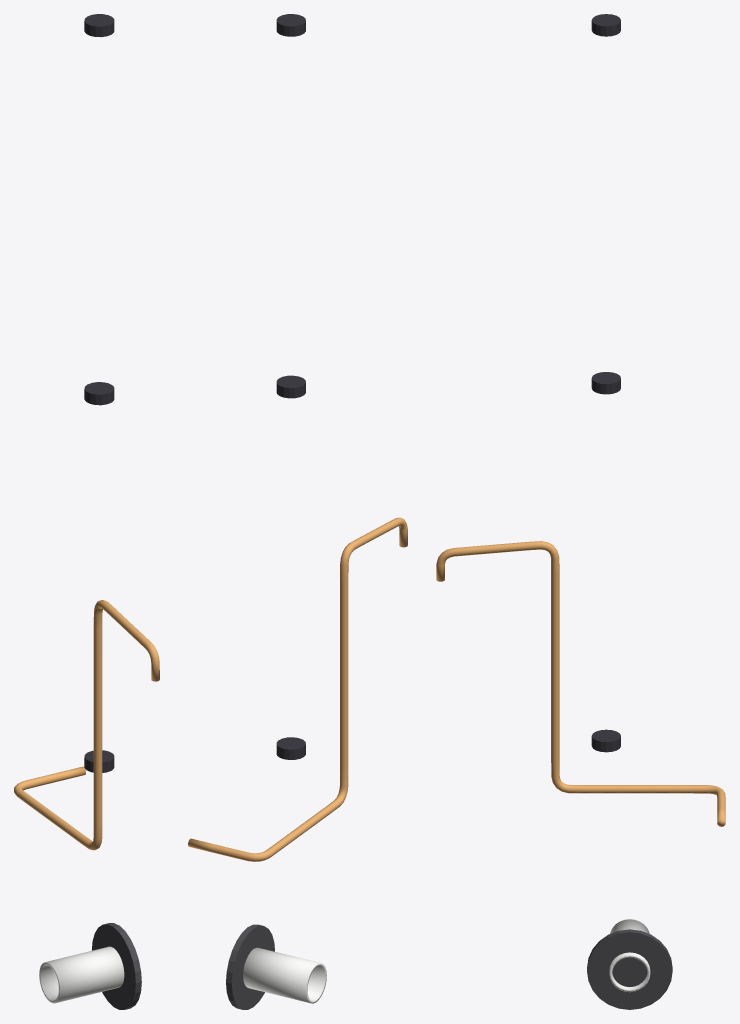
The model's file is slab_pipes_hvac__hvac__9184bdf7.glb.
The picture shows the model from 3 angles, left to right: view 1: azimuth 30°, elevation 25°; view 2: azimuth 150°, elevation 25°; view 3: azimuth 270°, elevation 25°; orthographic projection. The views are drawn at different scales.
Parts seen in each view (by area): view 1: cable_hvac_disconnect_feed, sleeve_hvac_wall, seal_hvac_wall, tape_hvac_tstat_cable.001, tape_hvac_tstat_cable.002, tape_hvac_tstat_cable; view 2: cable_hvac_disconnect_feed, sleeve_hvac_wall, seal_hvac_wall, tape_hvac_tstat_cable.001, tape_hvac_tstat_cable.002, tape_hvac_tstat_cable; view 3: cable_hvac_disconnect_feed, seal_hvac_wall, sleeve_hvac_wall.
Boxes of the visible parts, x1,y1,x2,y2 form: cable_hvac_disconnect_feed: (14, 600, 159, 850); sleeve_hvac_wall: (39, 946, 124, 1003); seal_hvac_wall: (92, 923, 141, 1009); tape_hvac_tstat_cable.001: (84, 382, 114, 405); tape_hvac_tstat_cable.002: (84, 14, 114, 37); tape_hvac_tstat_cable: (84, 750, 114, 772); cable_hvac_disconnect_feed: (188, 517, 407, 861); sleeve_hvac_wall: (243, 947, 326, 1003); seal_hvac_wall: (226, 924, 274, 1009); tape_hvac_tstat_cable.001: (276, 375, 305, 398); tape_hvac_tstat_cable.002: (276, 14, 305, 36); tape_hvac_tstat_cable: (276, 737, 305, 759); cable_hvac_disconnect_feed: (436, 541, 725, 826); seal_hvac_wall: (587, 929, 672, 1009); sleeve_hvac_wall: (609, 919, 650, 992).
Size of the model in its own units: 0.1621 by 1.91 by 0.5128.
